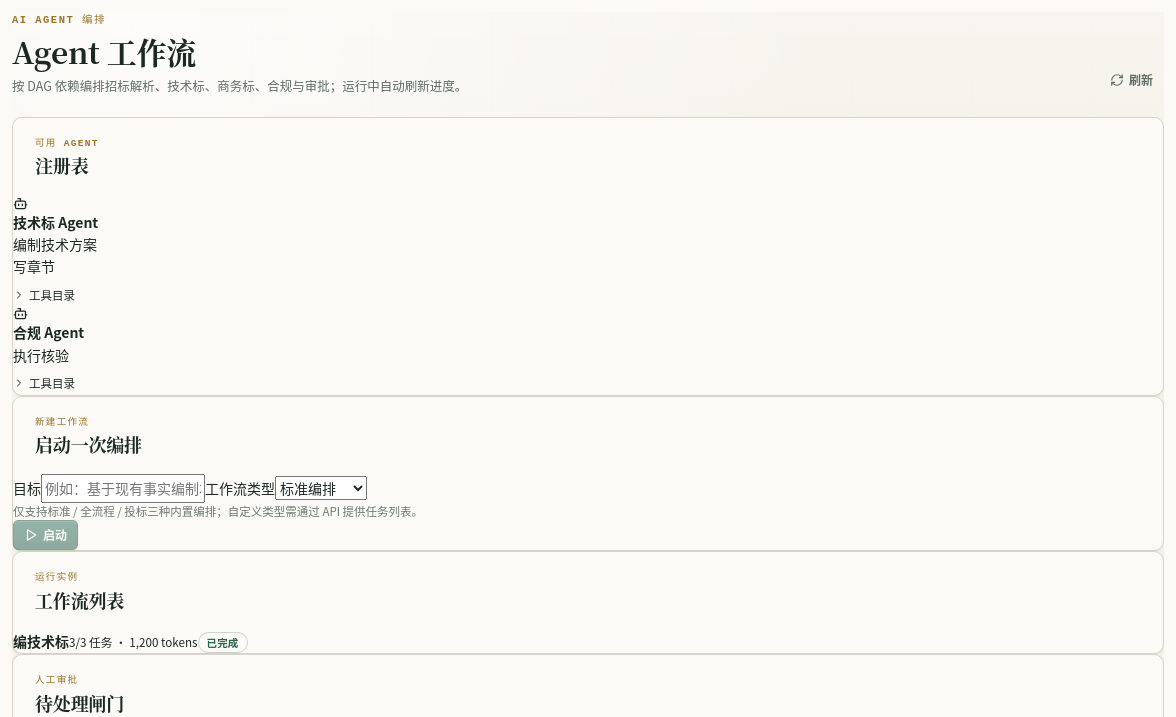
Test: AgentsTab › 注册表卡片按 agent 类型懒加载只读工具目录
This screenshot has width=1176, height=717.
expect the text "技术标 Agent" is shown: met, box left=13, top=212, right=98, bottom=232
Click the button with aria-label "工具目录：technical" at {"x": 44, "y": 295}, box left=13, top=284, right=75, bottom=306
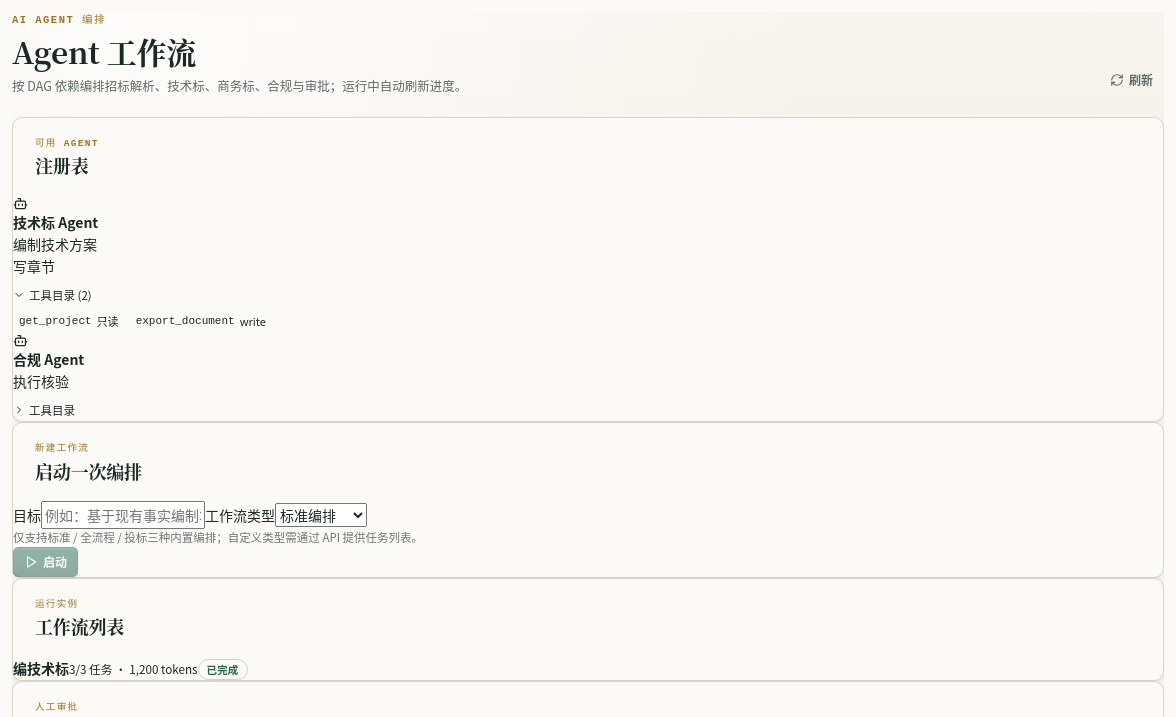
expect the text "get_project" is shown: met, box left=19, top=313, right=92, bottom=331
expect the text "只读" is shown: met, box left=97, top=313, right=119, bottom=331
expect the text "write" is shown: met, box left=240, top=313, right=266, bottom=331
